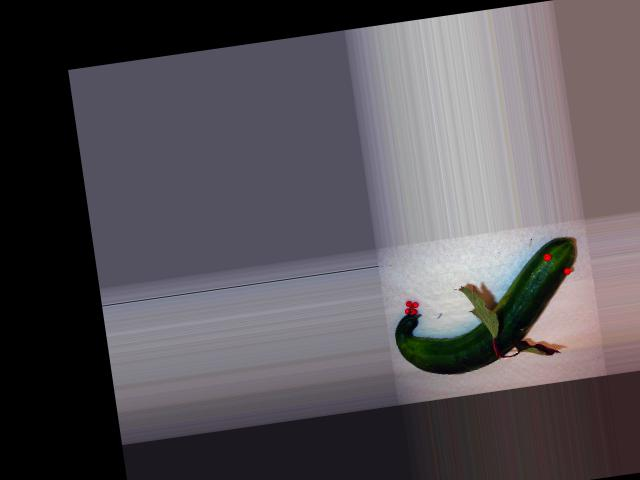cucumber: (384, 236, 589, 381)
